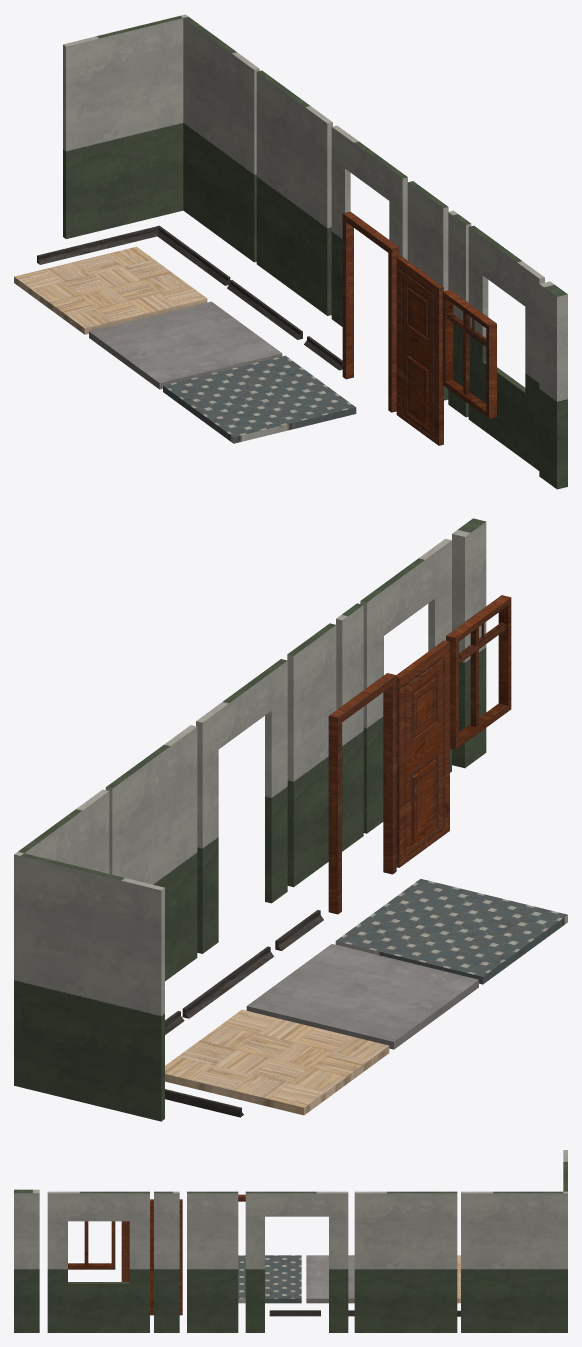
File: modular-kit.glb
3 views of the same model, one above another, from view 1: azimuth 30°, elevation 25°; view 2: azimuth 150°, elevation 25°; view 3: azimuth 270°, elevation 25° (orthographic). The views are drawn at different scales.
Parts seen in each view (by area): view 1: SM_Wall_Angle_2*2, SM_Wall_2*3, SM_Window_opening, SM_Floor_2*2, SM_Ceiling_2x2, SM_Ceiling_2x2(Laminat), SM_Interior_door, SM_Doorway_2*3_1, SM_Wall_Colonum, SM_Interior_doorway, SM_Window_frame, SM_Wall_1*3 (+3 smaller); view 2: SM_Wall_Angle_2*2, SM_Wall_2*3, SM_Ceiling_2x2, SM_Ceiling_2x2(Laminat), SM_Floor_2*2, SM_Doorway_2*3_1, SM_Wall_1*3, SM_Interior_door, SM_Window_opening, SM_Interior_doorway, SM_Wall_Colonum, SM_Wall_0,5*3 (+3 smaller); view 3: SM_Wall_Angle_2*2, SM_Wall_2*3, SM_Window_opening, SM_Wall_1*3, SM_Doorway_2*3_1, SM_Wall_Colonum, SM_Wall_0,5*3, SM_Floor_2*2, SM_Interior_door, SM_Ceiling_2x2(Laminat), SM_Window_frame, SM_Plintus_x1.
Boxes of the visible parts, bbox=[...] form: SM_Wall_Angle_2*2: bbox=[63, 14, 259, 262]; SM_Wall_2*3: bbox=[256, 70, 332, 315]; SM_Window_opening: bbox=[468, 225, 544, 470]; SM_Floor_2*2: bbox=[163, 355, 356, 443]; SM_Ceiling_2x2: bbox=[14, 246, 207, 334]; SM_Ceiling_2x2(Laminat): bbox=[89, 301, 282, 389]; SM_Interior_door: bbox=[396, 256, 443, 445]; SM_Doorway_2*3_1: bbox=[331, 125, 407, 326]; SM_Wall_Colonum: bbox=[539, 281, 567, 489]; SM_Interior_doorway: bbox=[342, 211, 399, 412]; SM_Window_frame: bbox=[442, 290, 496, 418]; SM_Wall_1*3: bbox=[407, 181, 448, 400]; SM_Wall_Angle_2*2: bbox=[14, 789, 164, 1121]; SM_Wall_2*3: bbox=[105, 725, 197, 981]; SM_Ceiling_2x2: bbox=[165, 1009, 389, 1115]; SM_Ceiling_2x2(Laminat): bbox=[246, 944, 478, 1049]; SM_Floor_2*2: bbox=[335, 879, 567, 984]; SM_Doorway_2*3_1: bbox=[196, 659, 287, 953]; SM_Wall_1*3: bbox=[287, 623, 336, 887]; SM_Interior_door: bbox=[396, 640, 449, 867]; SM_Window_opening: bbox=[360, 538, 451, 833]; SM_Interior_doorway: bbox=[328, 673, 396, 914]; SM_Wall_Colonum: bbox=[452, 518, 486, 768]; SM_Wall_0,5*3: bbox=[336, 603, 363, 851]; SM_Wall_Angle_2*2: bbox=[461, 1150, 567, 1332]; SM_Wall_2*3: bbox=[354, 1191, 457, 1332]; SM_Window_opening: bbox=[47, 1191, 149, 1332]; SM_Wall_1*3: bbox=[187, 1191, 238, 1332]; SM_Doorway_2*3_1: bbox=[245, 1191, 348, 1332]; SM_Wall_Colonum: bbox=[14, 1189, 39, 1332]; SM_Wall_0,5*3: bbox=[154, 1191, 179, 1332]; SM_Floor_2*2: bbox=[238, 1255, 301, 1303]; SM_Interior_door: bbox=[121, 1199, 182, 1315]; SM_Ceiling_2x2(Laminat): bbox=[306, 1255, 354, 1303]; SM_Window_frame: bbox=[68, 1221, 115, 1269]; SM_Plintus_x1: bbox=[269, 1310, 320, 1316].
Size of the model in its own units: 3.37 by 3 by 10.8.
Materials: 1 (1 with a texture image).
